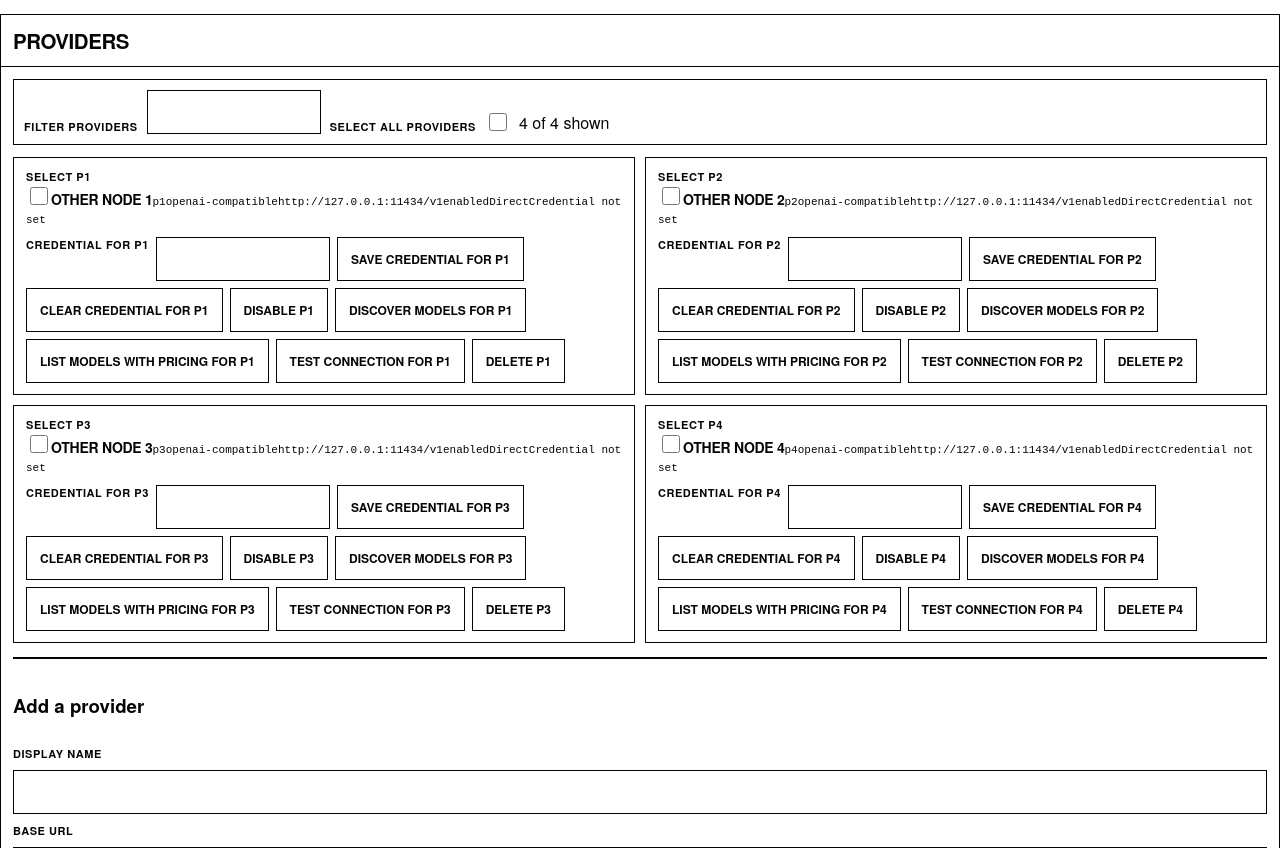
Test case: bulk provider proxy assignment › clears the selection after a successful assignment
The image size is (1280, 848).
expect the text "Other node 1" is shown: met, box [51,189,152,209]
Click the checkbox with test id "provider-select-all" at (498, 122), box [489,113,507,131]
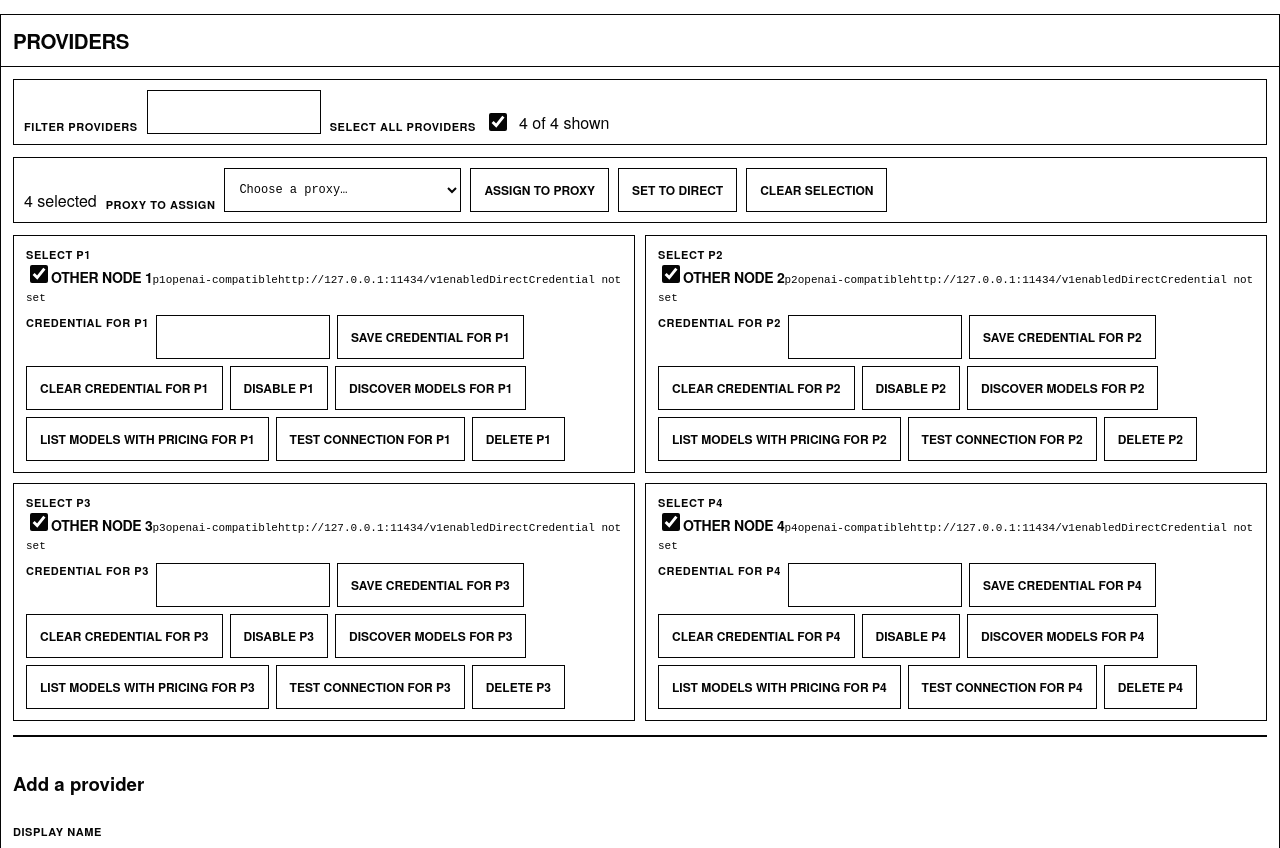
Select "tor (socks5 127.0.0.1:1080)" in the dropdown with test id "bulk-proxy-id" at (343, 190), box [224,168,461,212]
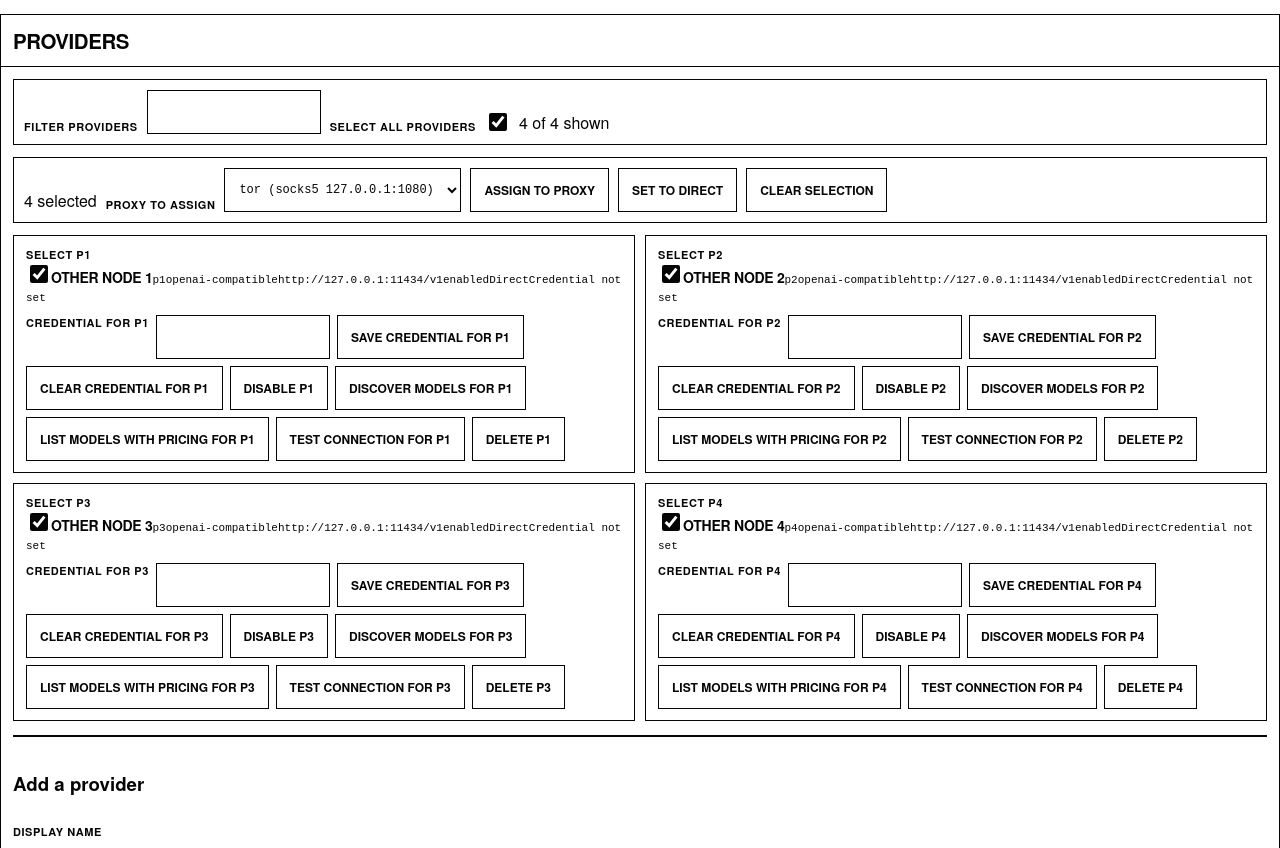
Click the button with test id "assign-to-proxy" at (540, 190), box [470,168,609,212]
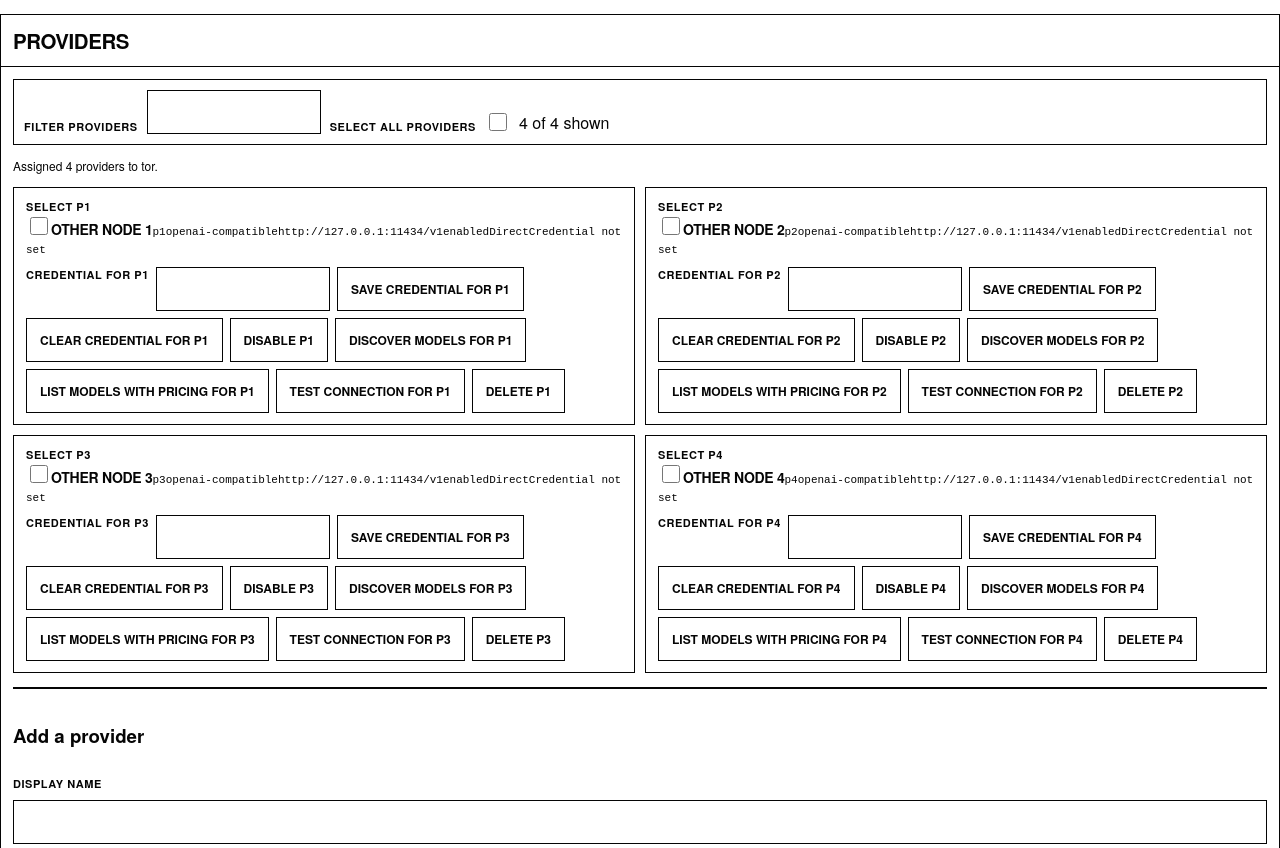
expect the element with test id "proxy-assign-bar" is gone: met
